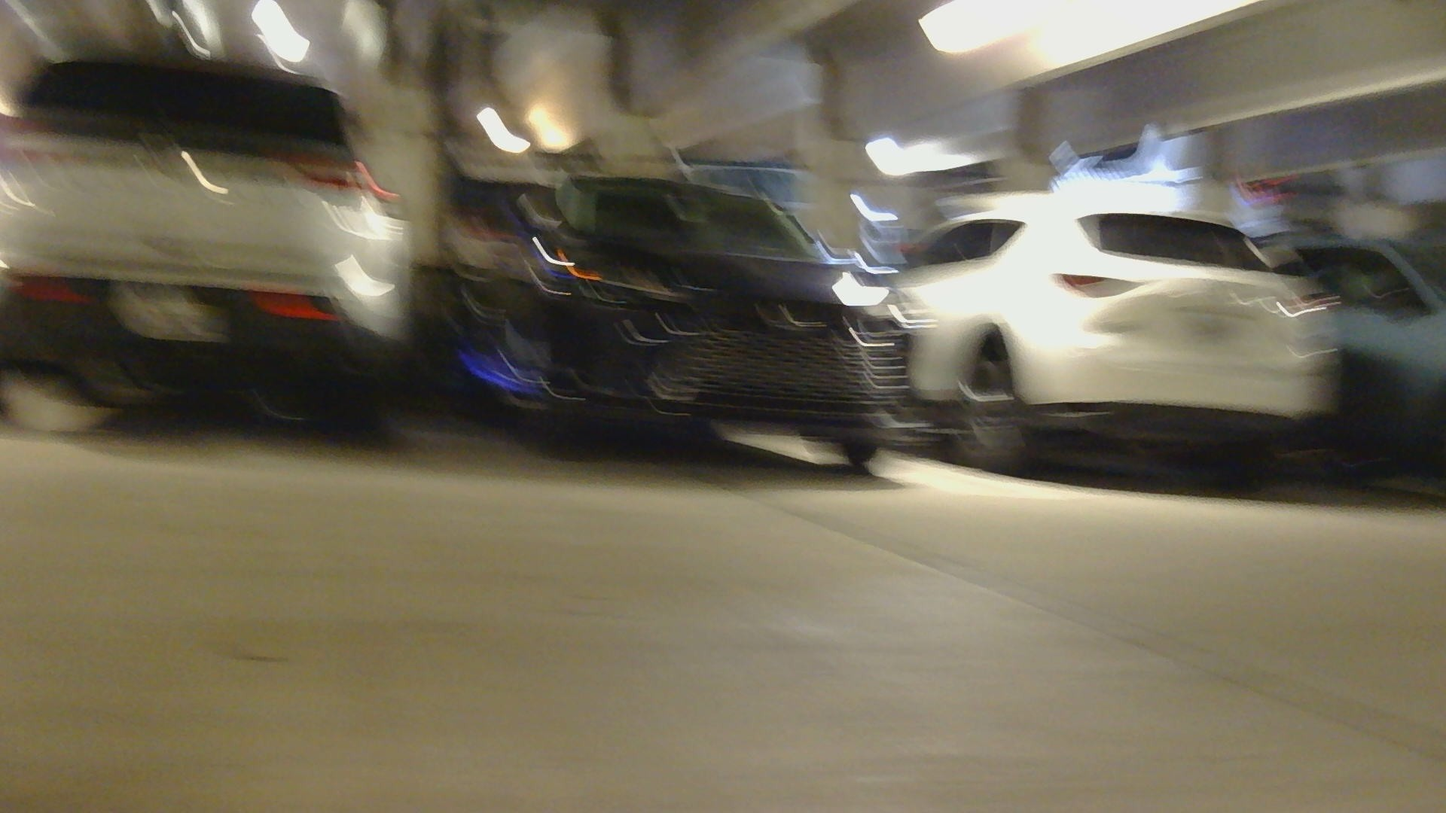occupied_spot: (404, 154, 933, 486), (0, 41, 414, 429), (866, 185, 1340, 501), (1248, 232, 1445, 501)
